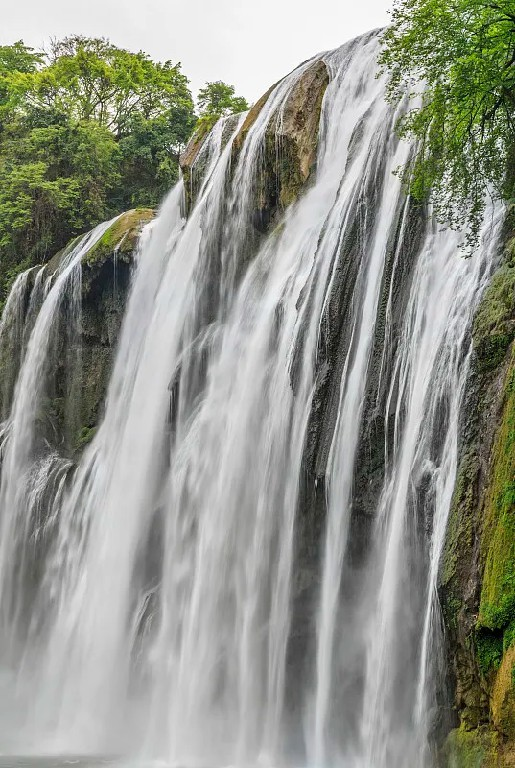Huangguoshu: (2, 29, 503, 768)
